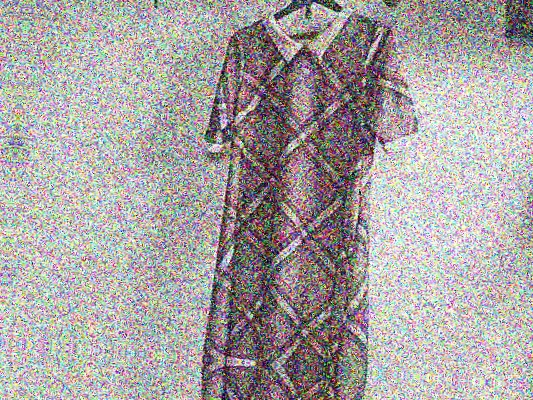Dress: (179, 0, 448, 374), (148, 361, 417, 400)
